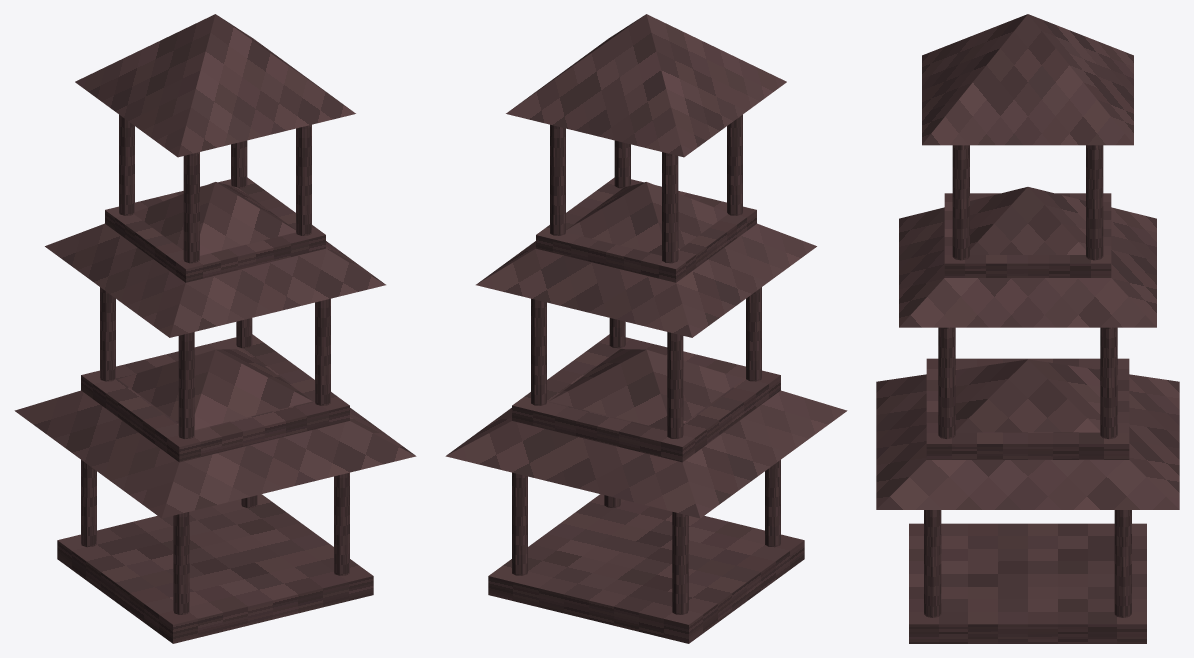
Rendered from pagoda_45.glb.
3 views of the same model, side by side, from view 1: azimuth 30°, elevation 25°; view 2: azimuth 150°, elevation 25°; view 3: azimuth 270°, elevation 25° (orthographic). The views are drawn at different scales.
Parts seen in each view (by area): view 1: Roof, Floor, Roof.001, Roof.002, Floor.001, Floor.002, Column.008, Column.004, Column.010, Column, Column.006, Column.002 (+4 smaller); view 2: Roof, Floor, Roof.001, Roof.002, Floor.001, Floor.002, Column.009, Column.005, Column.011, Column.001, Column.007, Column.003 (+4 smaller); view 3: Roof, Roof.001, Floor, Roof.002, Floor.001, Floor.002, Column.010, Column.011, Column.006, Column.007, Column.002, Column.003.
Boxes of the visible parts, x1,y1,x2,y2 form: Roof: (14,349,416,518); Floor: (57,494,373,643); Roof.001: (45,182,385,337); Roof.002: (75,14,355,157); Floor.001: (81,334,349,462); Floor.002: (105,177,325,282); Column.008: (183,152,199,263); Column.004: (178,332,194,438); Column.010: (296,124,311,235); Column: (173,512,189,614); Column.006: (315,298,330,405); Column.002: (334,472,349,575); Roof: (445,349,847,518); Floor: (488,494,804,643); Roof.001: (476,182,816,337); Roof.002: (506,14,786,157); Floor.001: (512,334,780,462); Floor.002: (536,177,756,282); Column.009: (662,152,678,263); Column.005: (667,332,683,438); Column.011: (550,124,565,235); Column.001: (672,512,688,614); Column.007: (531,298,546,405); Column.003: (512,472,527,575); Roof: (876,359,1179,509); Roof.001: (899,187,1156,327); Floor: (909,523,1146,643); Roof.002: (922,14,1133,145); Floor.001: (926,358,1129,459); Floor.002: (944,193,1111,277); Column.010: (952,145,969,260); Column.011: (1086,145,1103,260); Column.006: (938,327,955,438); Column.007: (1100,327,1117,438); Column.002: (924,510,941,617); Column.003: (1114,510,1131,617).
Size of the model in its own units: 4.2 by 8.86 by 4.2.
1 material, 1 textured.
